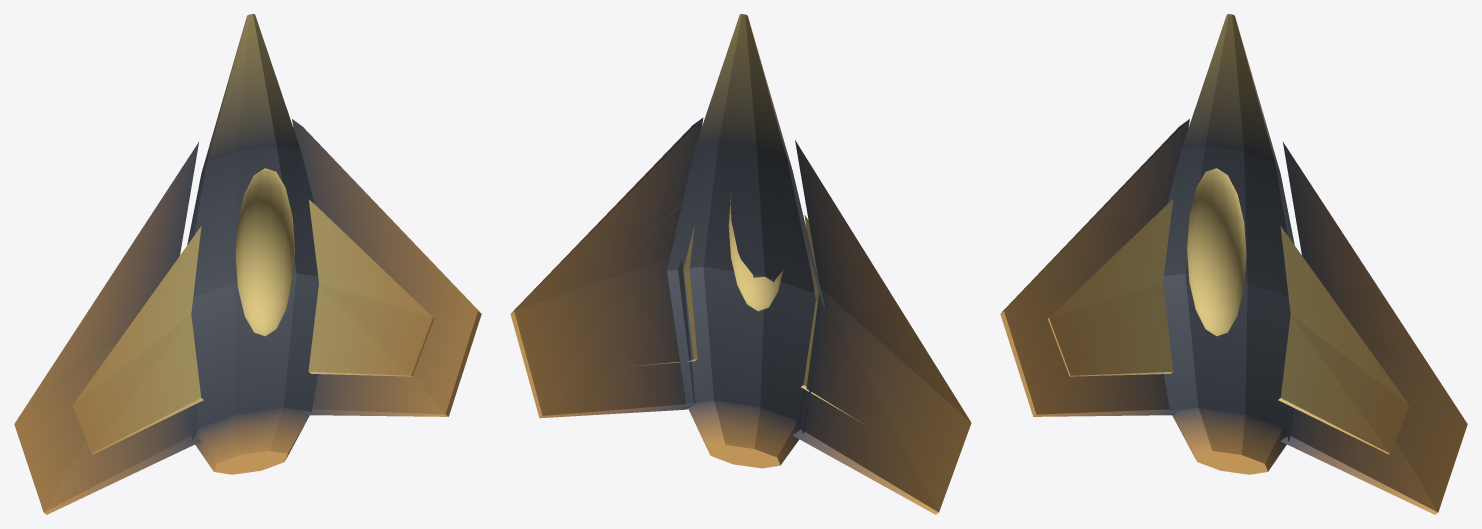
Rendered from ship_slate_phantom.glb.
3 views of the same model, side by side, from view 1: azimuth 30°, elevation 25°; view 2: azimuth 150°, elevation 25°; view 3: azimuth 330°, elevation 25° (orthographic).
Visible parts, largest first — view 1: ShipRoot; view 2: ShipRoot; view 3: ShipRoot.
Boxes of the visible parts, x1,y1,x2,y2 form: ShipRoot: (14,14,481,514); ShipRoot: (510,14,971,514); ShipRoot: (1000,14,1467,514).
Bounding box in the file's own units: 4.5 × 4.2 × 0.68.
